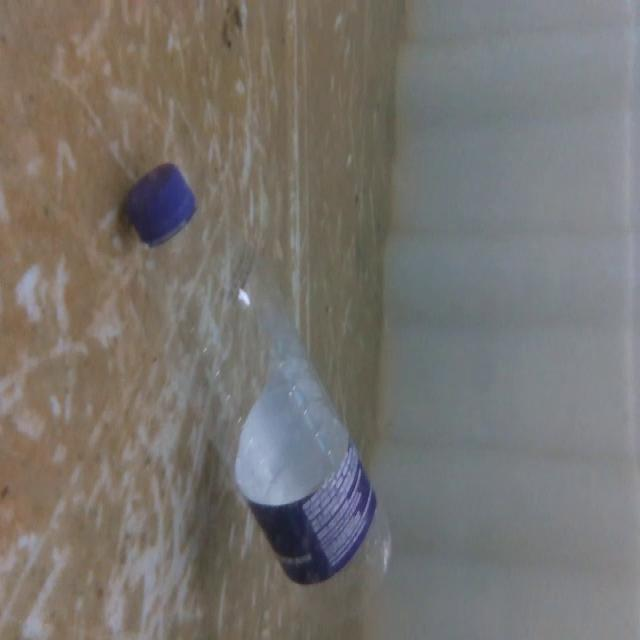plastic bottle: (120, 158, 398, 609)
